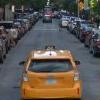Car: (17, 38, 89, 100)
